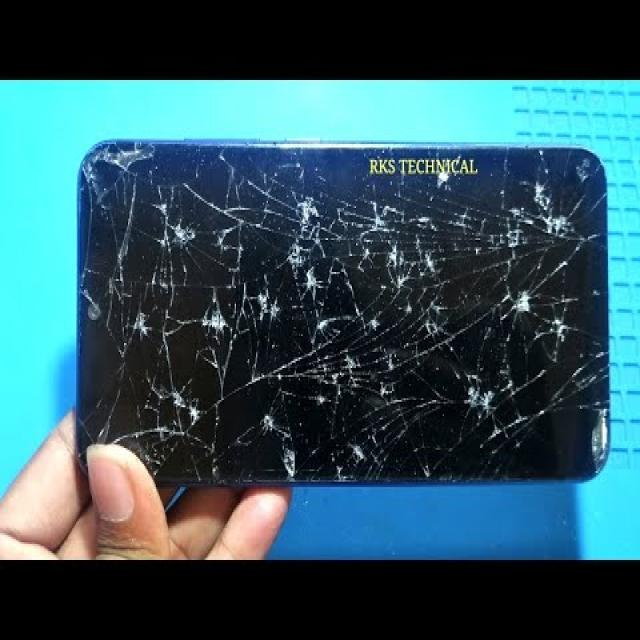mobile phone: (73, 137, 611, 491)
